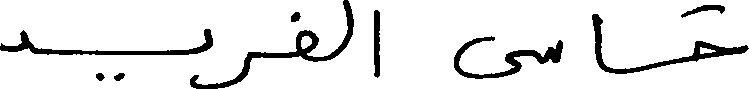ا: (590, 12, 604, 72), (370, 7, 380, 78)
ح: (692, 3, 747, 62)
د: (0, 27, 27, 52)
ر: (212, 35, 250, 87)
س: (535, 38, 563, 65)
ف: (292, 9, 317, 62)
ل: (338, 0, 355, 55)
ى: (450, 33, 520, 79)
ي: (93, 26, 213, 83)
